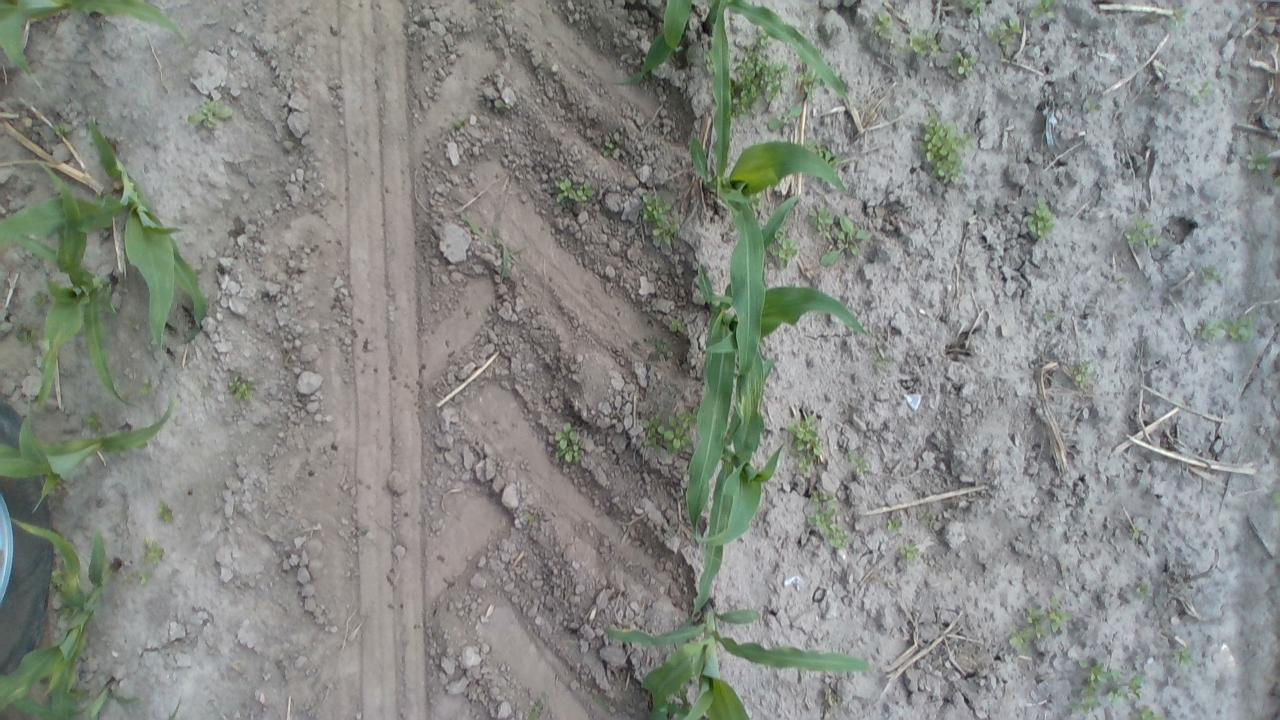Maize: (689, 0, 851, 413), (686, 192, 870, 544), (0, 115, 210, 352), (671, 332, 787, 628), (602, 596, 868, 720), (9, 161, 139, 414), (0, 517, 122, 720), (615, 0, 850, 105), (0, 390, 175, 514), (0, 0, 190, 72), (0, 674, 183, 720)
Weeds: (729, 45, 787, 117), (918, 110, 974, 182), (459, 212, 512, 280), (818, 215, 866, 267), (788, 414, 824, 474), (641, 194, 679, 246), (1201, 314, 1259, 342), (664, 408, 698, 454), (804, 490, 837, 536), (552, 422, 586, 464), (187, 100, 234, 128), (770, 226, 799, 270), (900, 26, 940, 57), (1124, 214, 1162, 246), (1068, 682, 1102, 716), (1026, 195, 1054, 236), (804, 138, 838, 171), (988, 15, 1022, 47), (1078, 658, 1118, 682), (799, 64, 824, 99), (643, 413, 663, 454), (808, 206, 832, 240), (870, 10, 894, 43), (767, 108, 802, 130), (228, 374, 255, 402), (951, 50, 979, 77), (1050, 596, 1070, 632), (1006, 625, 1034, 650), (1026, 608, 1049, 638), (14, 322, 40, 348), (1072, 361, 1096, 388), (141, 538, 165, 565), (1246, 150, 1272, 172), (826, 525, 848, 549), (554, 176, 575, 201), (957, 0, 986, 18), (846, 452, 868, 474), (900, 539, 920, 563), (1030, 0, 1054, 20), (1192, 81, 1214, 102), (576, 183, 596, 204), (1200, 265, 1222, 284), (1130, 708, 1164, 720), (1106, 688, 1127, 707), (1174, 646, 1194, 665), (1130, 674, 1144, 700), (70, 684, 90, 702), (156, 502, 174, 522), (82, 412, 102, 430), (756, 27, 774, 46), (649, 337, 670, 353), (52, 122, 73, 138), (750, 190, 765, 210), (138, 378, 155, 395), (702, 50, 714, 74), (32, 290, 48, 308), (1171, 9, 1186, 28), (50, 568, 64, 588), (670, 316, 686, 332), (134, 569, 150, 585), (58, 604, 73, 620), (526, 704, 540, 720), (887, 518, 902, 532), (1135, 580, 1148, 596), (1084, 100, 1098, 112), (596, 695, 608, 709), (603, 142, 615, 156), (1131, 522, 1140, 539), (872, 356, 882, 370), (456, 116, 466, 128), (1042, 312, 1055, 320), (1272, 490, 1280, 503), (526, 515, 537, 524), (922, 513, 931, 521), (122, 574, 132, 580), (1274, 176, 1280, 186), (498, 102, 507, 108)
